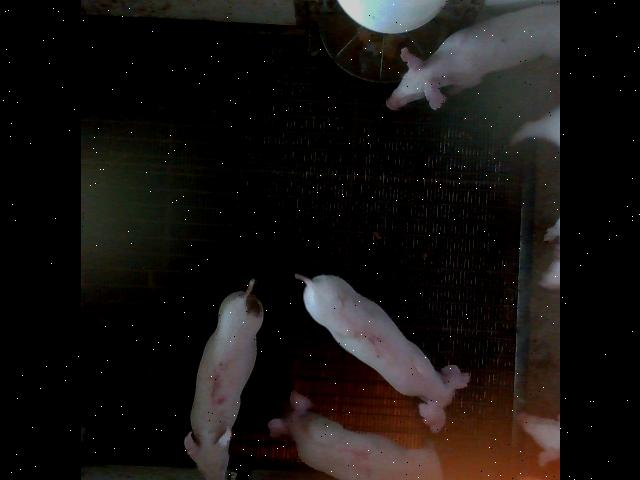pig-4: (268, 391, 441, 480)
pig-5: (182, 279, 262, 480)
